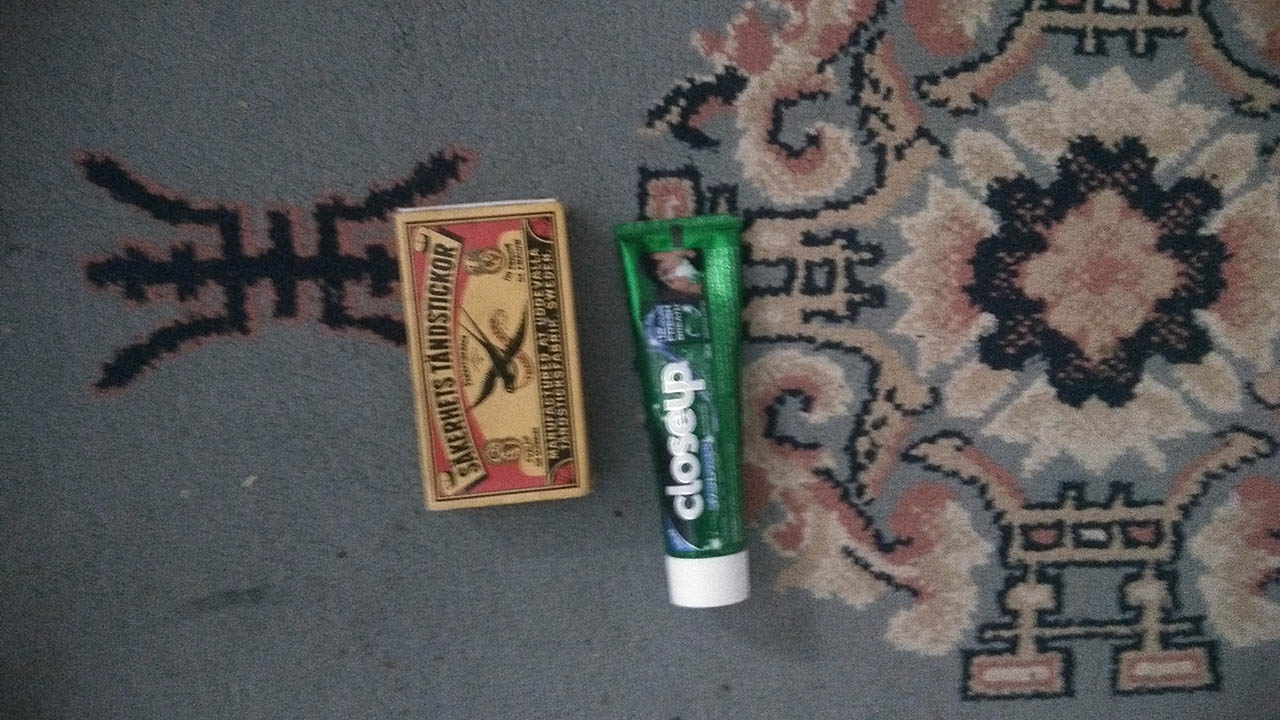Toothpaste-Closeup 3.04$: (612, 204, 772, 611)
match-sticks .90$: (390, 195, 591, 520)
